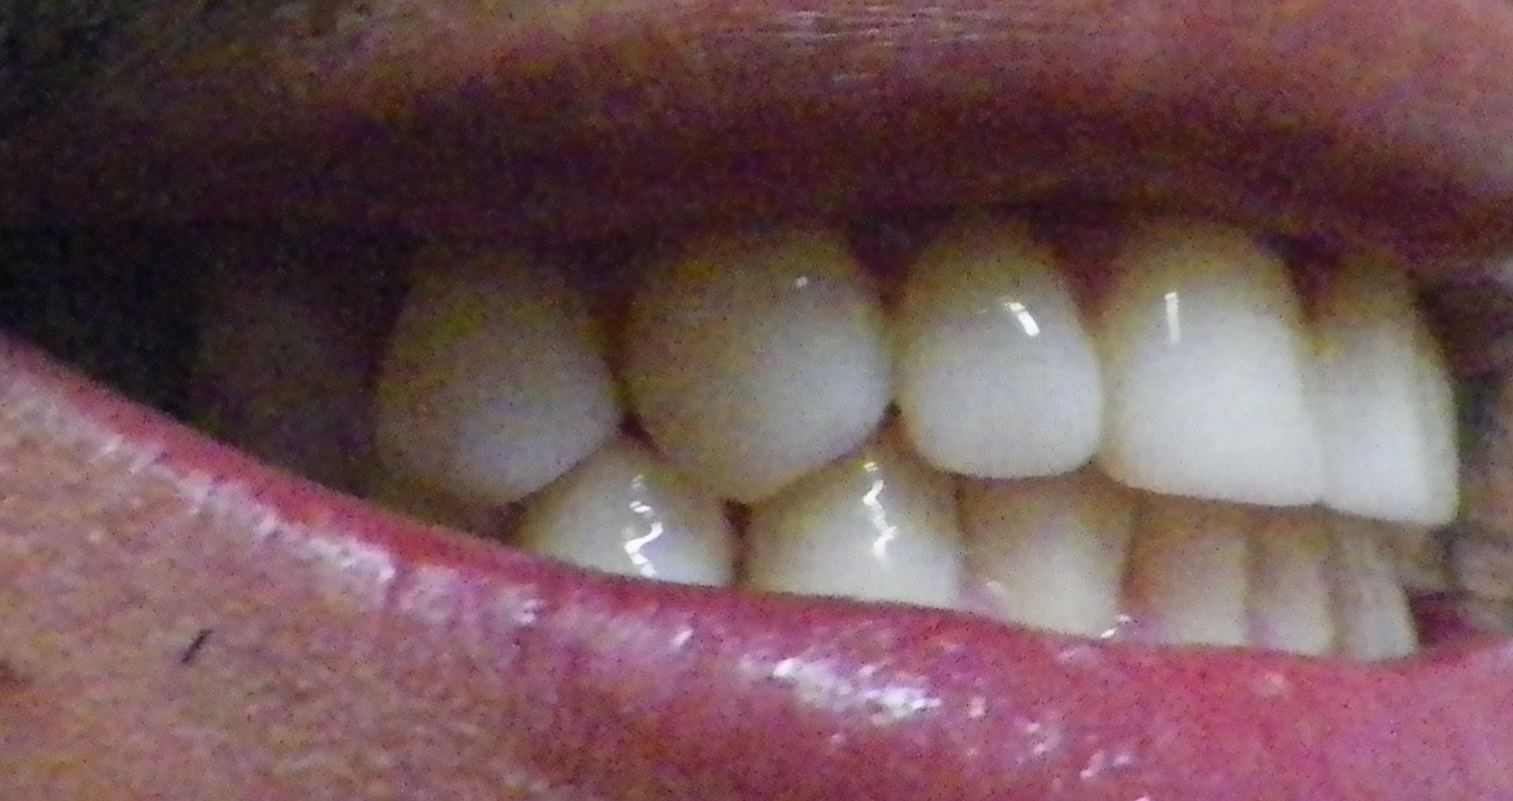boca: (107, 233, 1458, 663)
